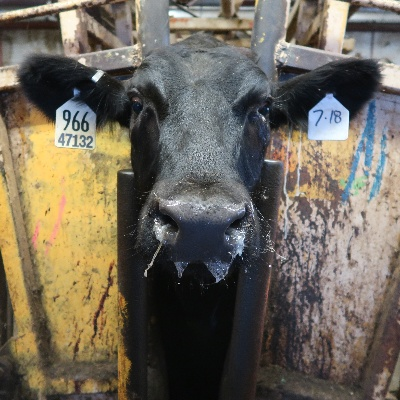fidget_spinner: (147, 188, 253, 269)
